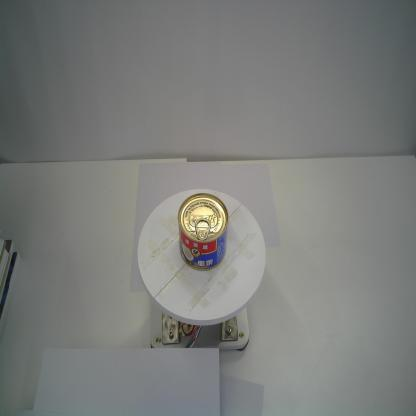Canned Food: (176, 188, 230, 274)
